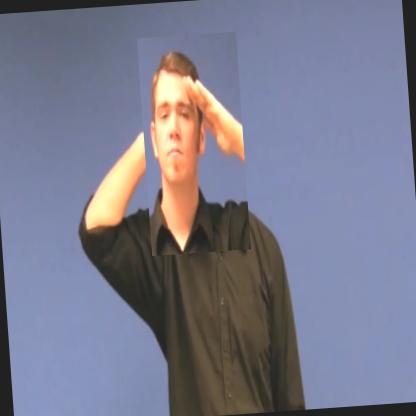Hello: (137, 32, 251, 256)
